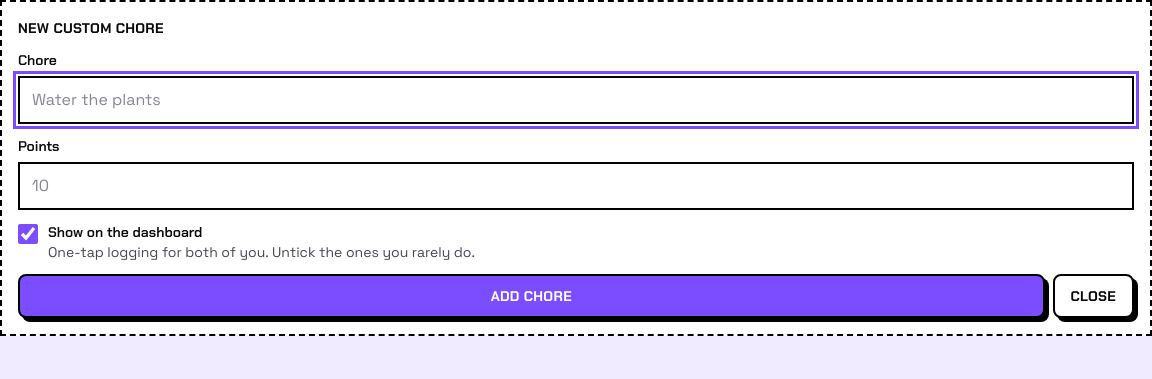
Test: client-side validation stops the unpresentable payloads › sends nothing for points -3
This screenshot has width=1152, height=379.
Type "Valid title" into the field labelled "Chore".
click(576, 100); type("Valid title")  # box x1=18 y1=76 x2=1134 y2=124
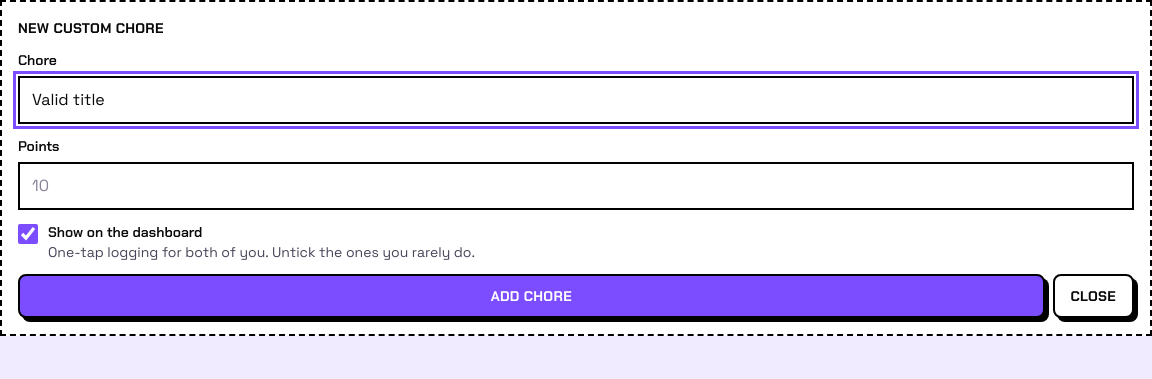
Type "-3" into the number field labelled "Points".
click(576, 186); type("-3")  # box x1=18 y1=162 x2=1134 y2=210
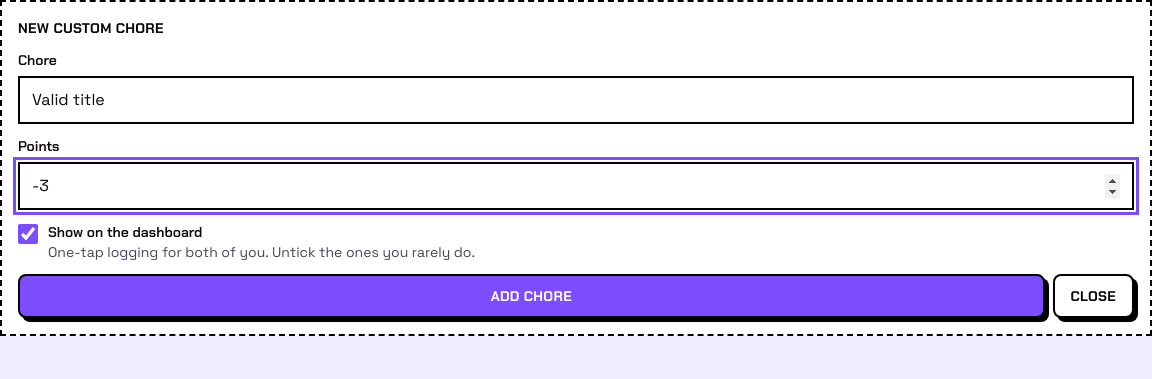
Click the button "Add chore".
click(531, 296)  # box x1=18 y1=274 x2=1045 y2=318
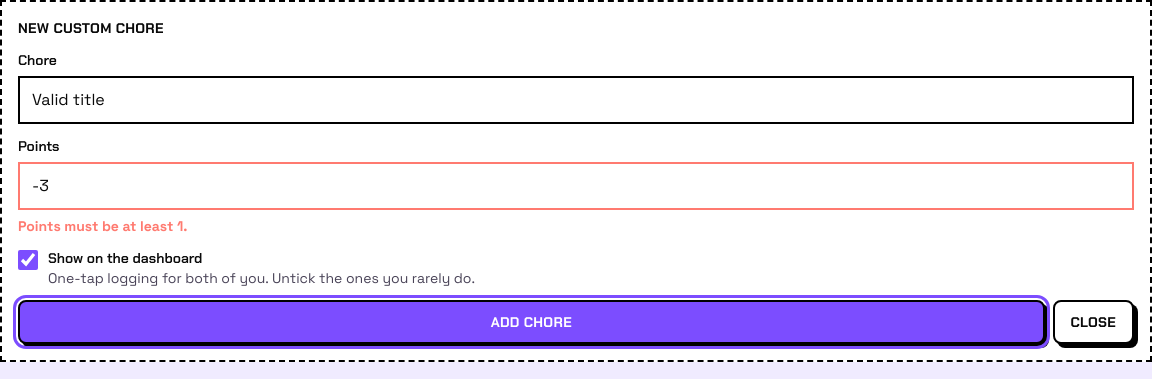
Check: the text "Points must be at least 1." is shown, box x1=18 y1=217 x2=188 y2=235
